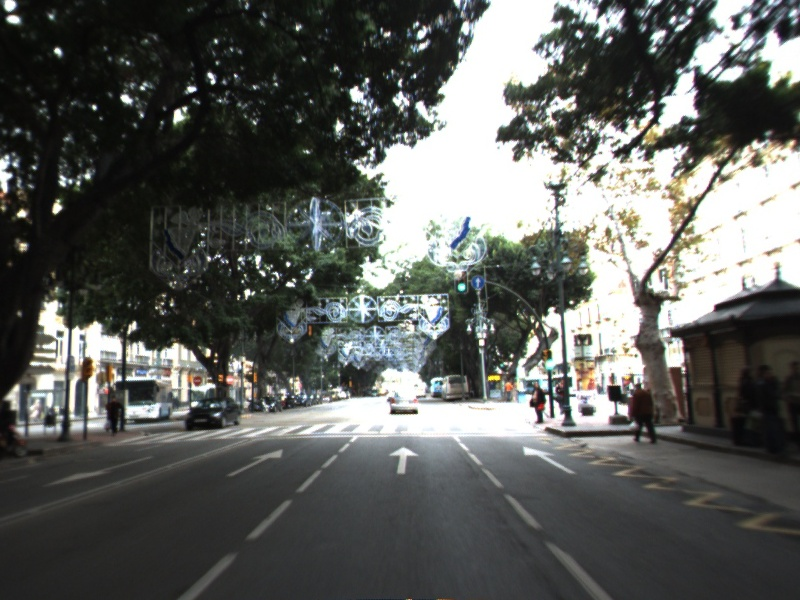STRAIGHT: (224, 447, 285, 479), (521, 444, 580, 476), (386, 444, 422, 476)
